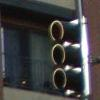traffic lights: (50, 17, 90, 98)
